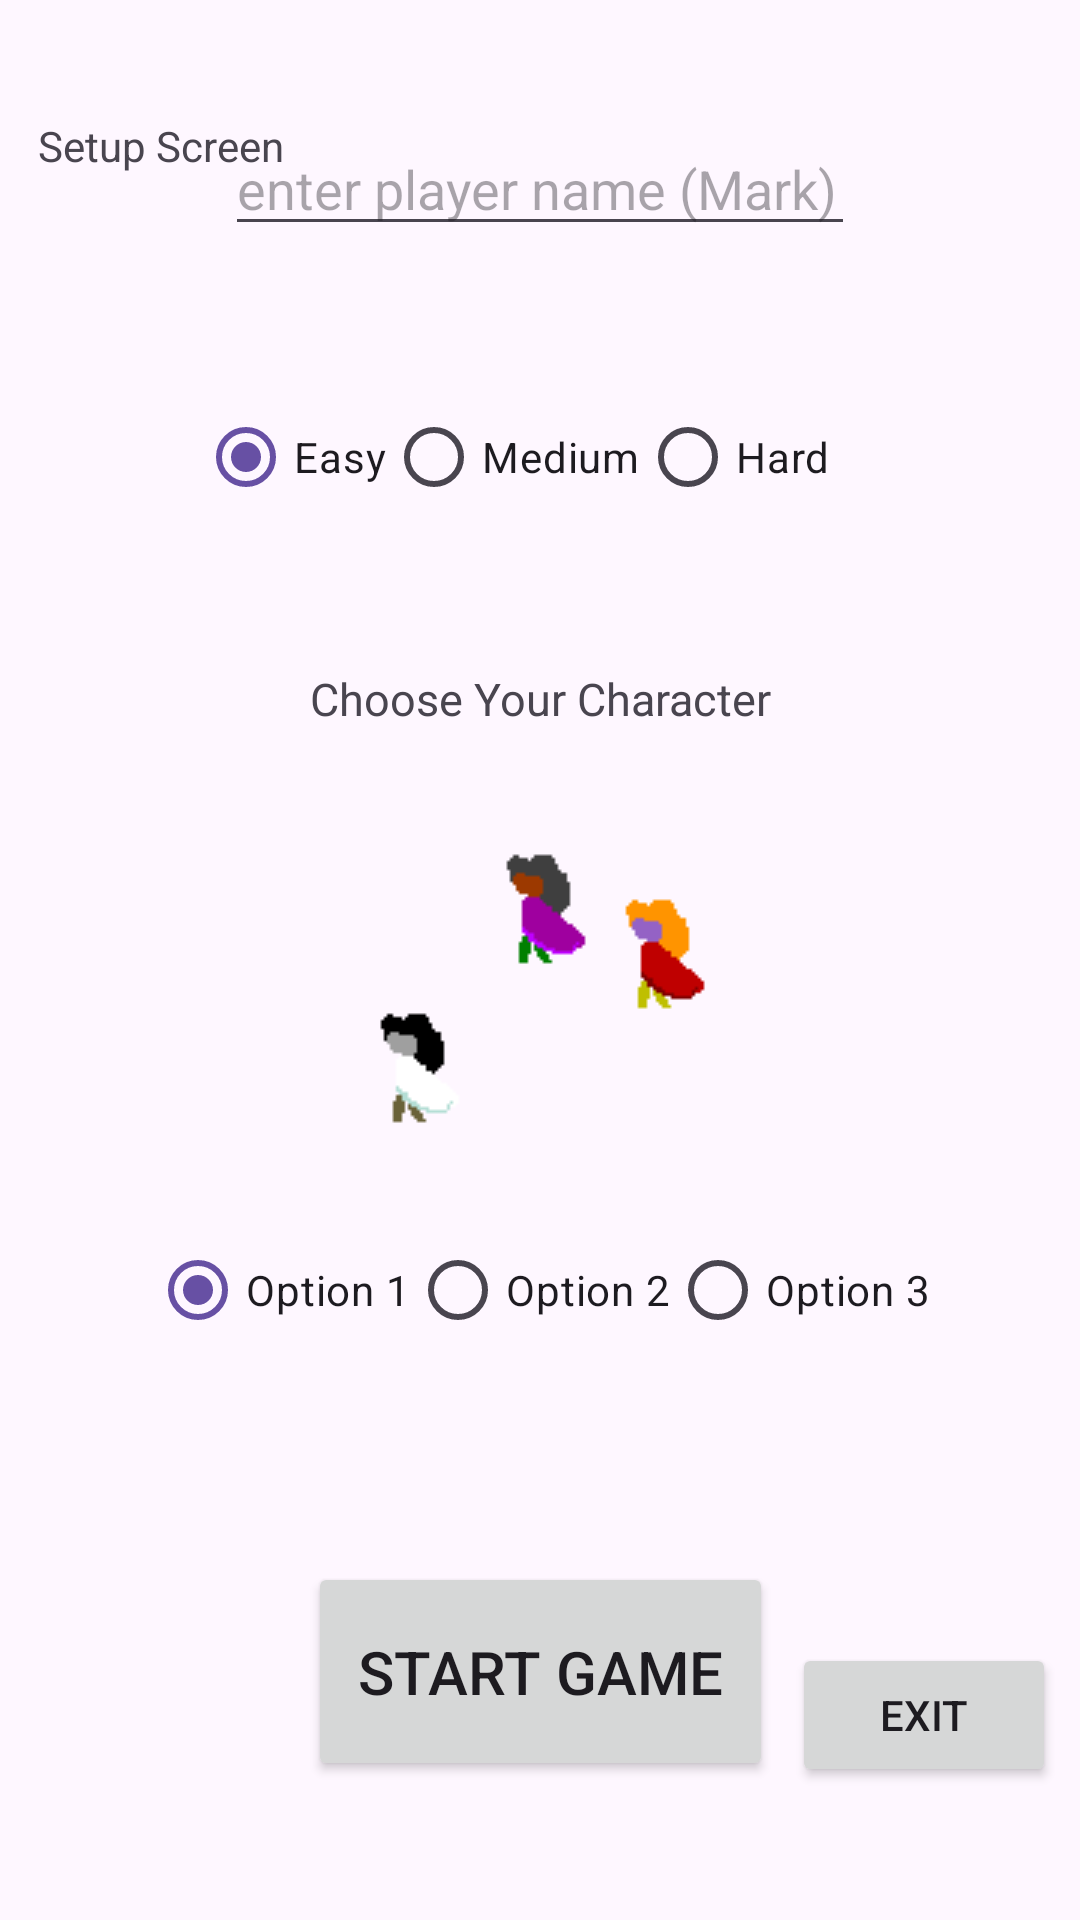

Point at icon controls on the screen. Image size 1080*1920, points as point (x, y).
player: point (546, 909), point (665, 954), point (416, 1068)
